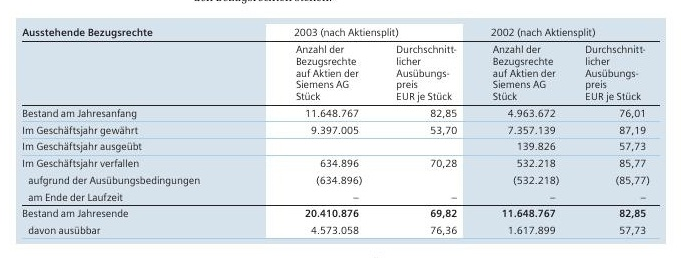table: (0, 0, 681, 258)
